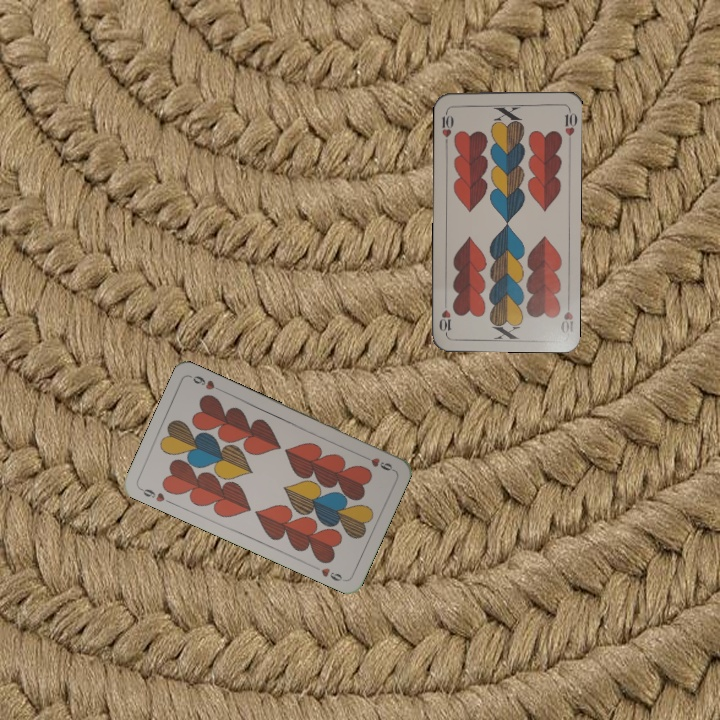H10: (437, 106, 456, 146), (556, 296, 575, 335)
H9: (136, 484, 175, 507), (358, 451, 396, 473)
